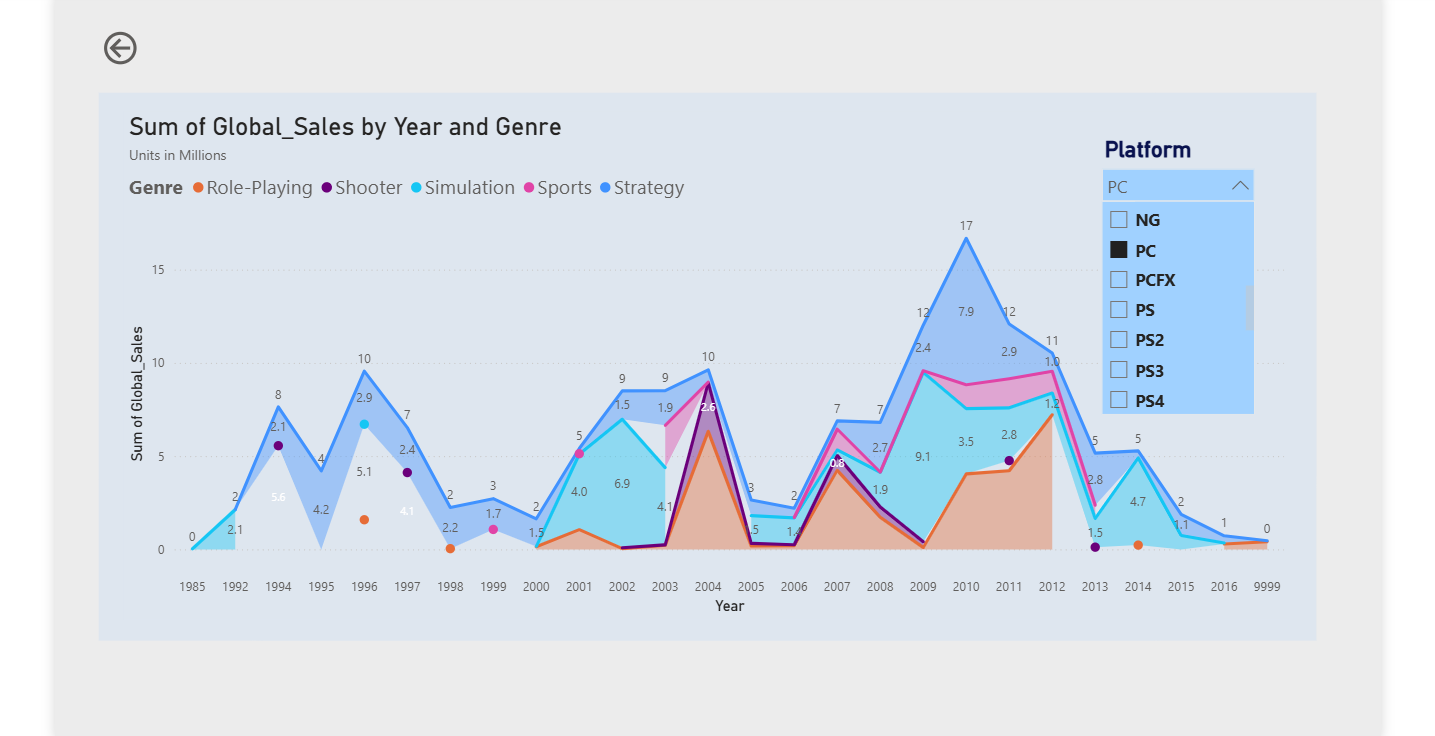

This screenshot's page, from the dashboard's own definition file:
{"tool":"powerbi","page":{"name":"Page 2","canvas":[1280,720],"ordinal":1},"visuals":[{"type":"group","id":"g1","title":"Group 1","box":[41.6,90,1175.5,540.1],"z":0},{"type":"shape","box":[41.6,90,1176,540.7],"z":1,"group":"g1"},{"type":"stackedAreaChart","fields":{"Category":["vgsales.Year Only"],"Y":["vgsales.Global Sale Total"],"Series":["vgsales.Genre"]},"box":[65.8,108.8,1125.8,501.1],"z":501,"group":"g1"},{"type":"actionButton","box":[41.6,30.9,96.7,41.6],"z":1000},{"type":"actionButton","box":[1167.4,32.2,99.4,40.3],"z":2000}]}

Visuals, with their boxes on the page's 1280x720 design canvas (x1, y1, x2, y2). These are canvas units, not pixel positions in the 1435x736 screenshot, which may show the page scaled, cropped or inside an application window:
"Group 1" group: (x1=42, y1=90, x2=1217, y2=630)
shape: (x1=42, y1=90, x2=1218, y2=631)
stackedAreaChart - vgsales.Year Only x vgsales.Global Sale Total: (x1=66, y1=109, x2=1192, y2=610)
actionButton: (x1=42, y1=31, x2=138, y2=72)
actionButton: (x1=1167, y1=32, x2=1267, y2=72)
